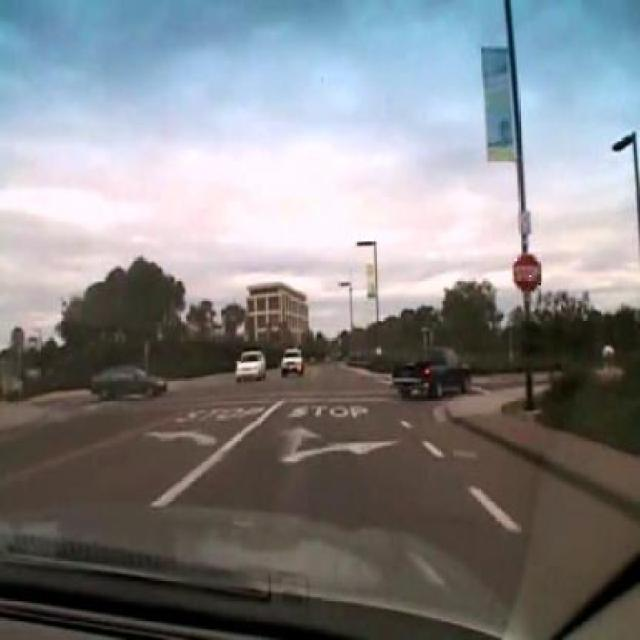stop: (512, 252, 542, 293)
